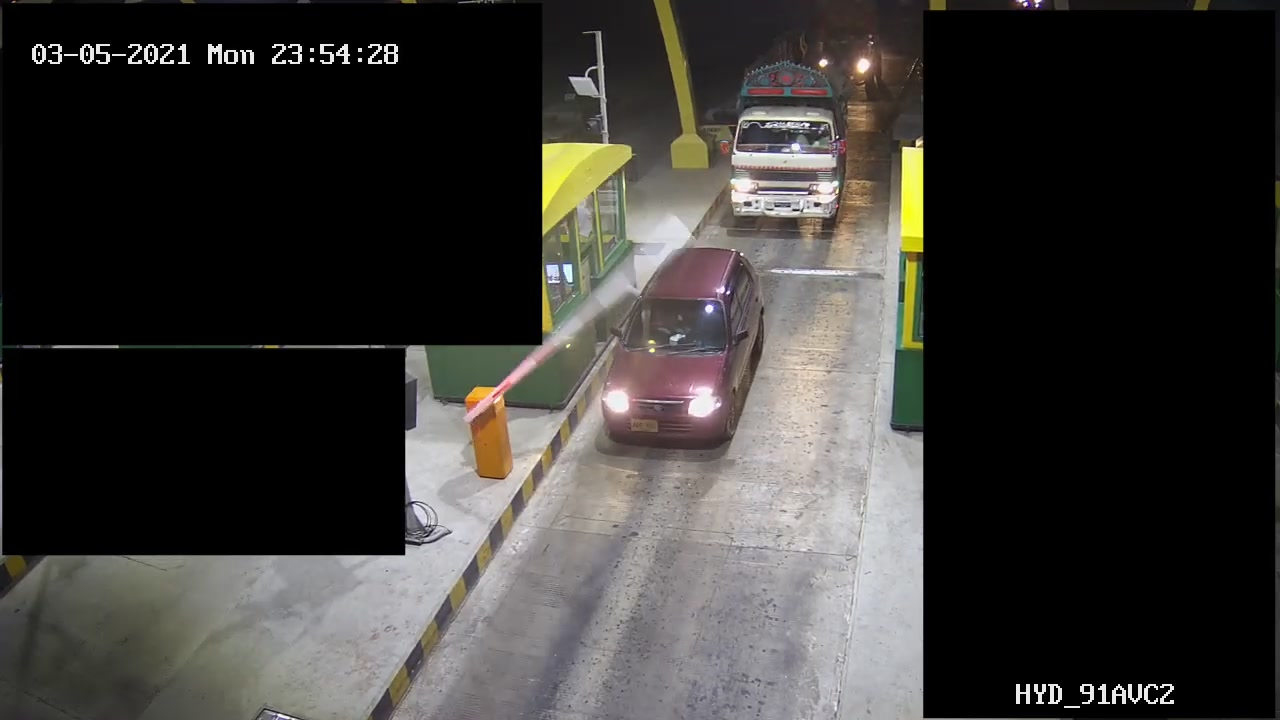F1: (596, 246, 770, 461)
F5: (729, 57, 849, 227)
